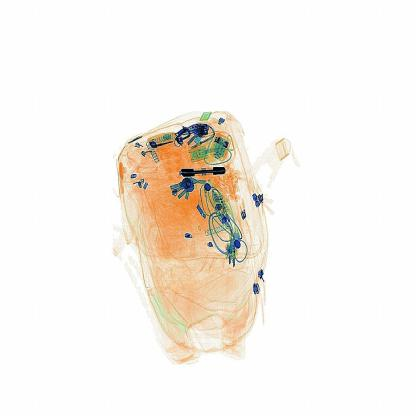knife: (176, 161, 235, 184)
